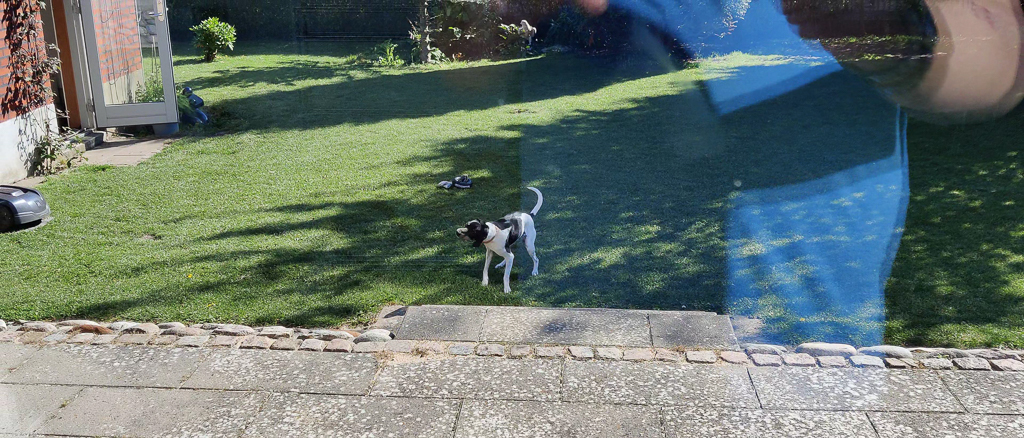Dog: (451, 180, 555, 296)
Eagle: (514, 19, 539, 43)
Humanoid: (172, 83, 214, 131)
